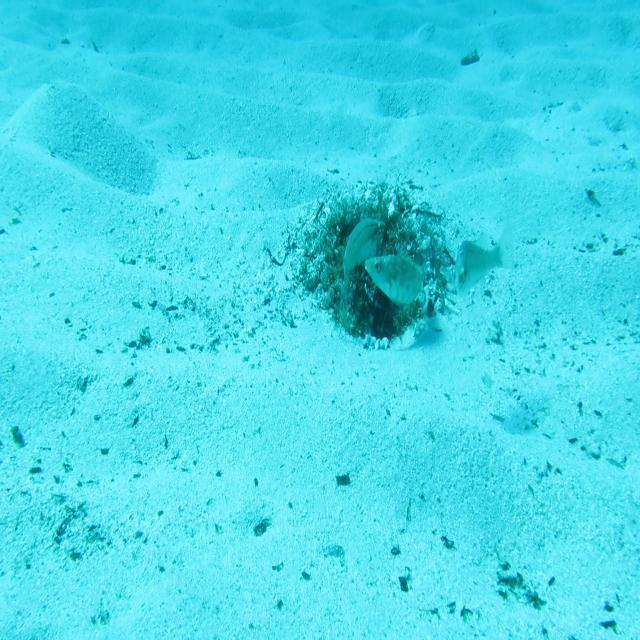BEND: (364, 240, 426, 310)
core_nest: (359, 215, 404, 252)
female: (453, 223, 515, 302), (342, 216, 386, 286)
nest: (288, 177, 460, 356)
vegetation: (457, 48, 484, 66), (251, 516, 272, 538), (334, 474, 352, 488)
